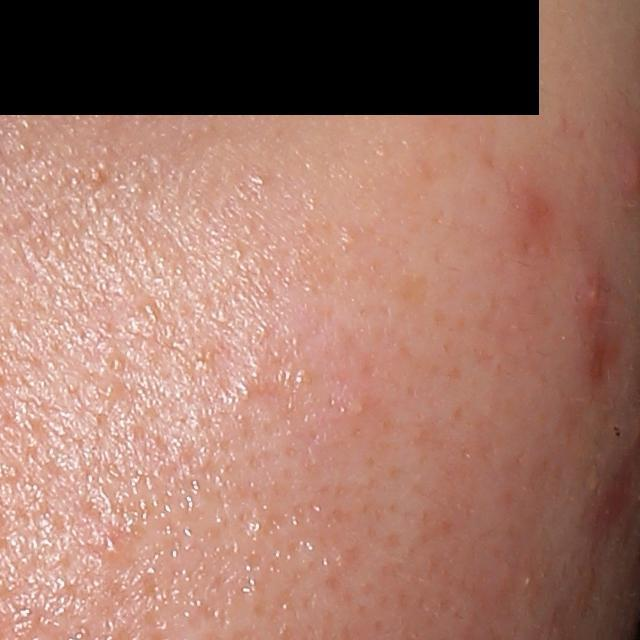papule: (575, 269, 609, 320)
